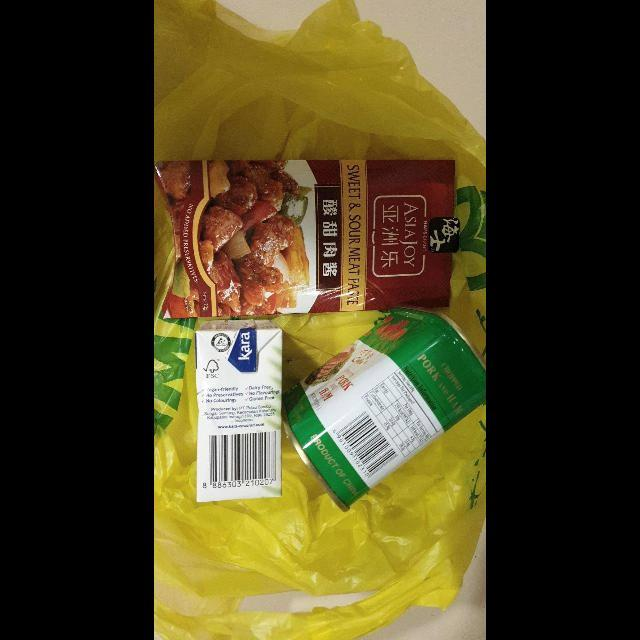aluminum: (282, 308, 487, 513)
plastic_sachet: (154, 160, 461, 319)
